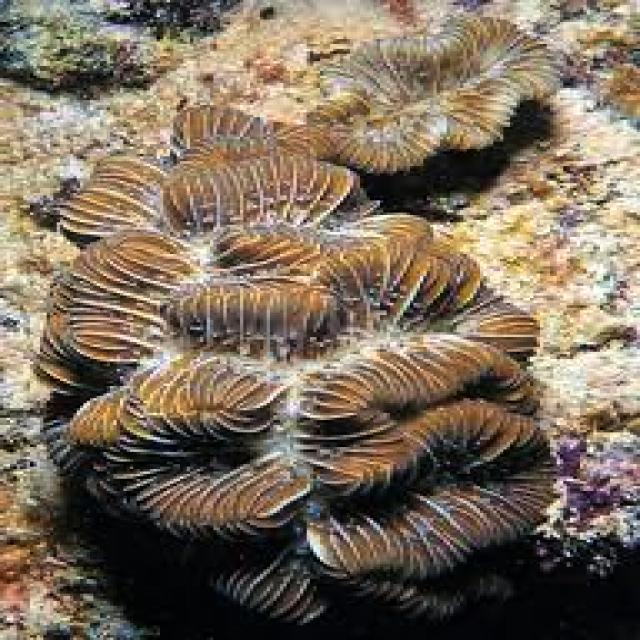Coral: (30, 17, 563, 636)
